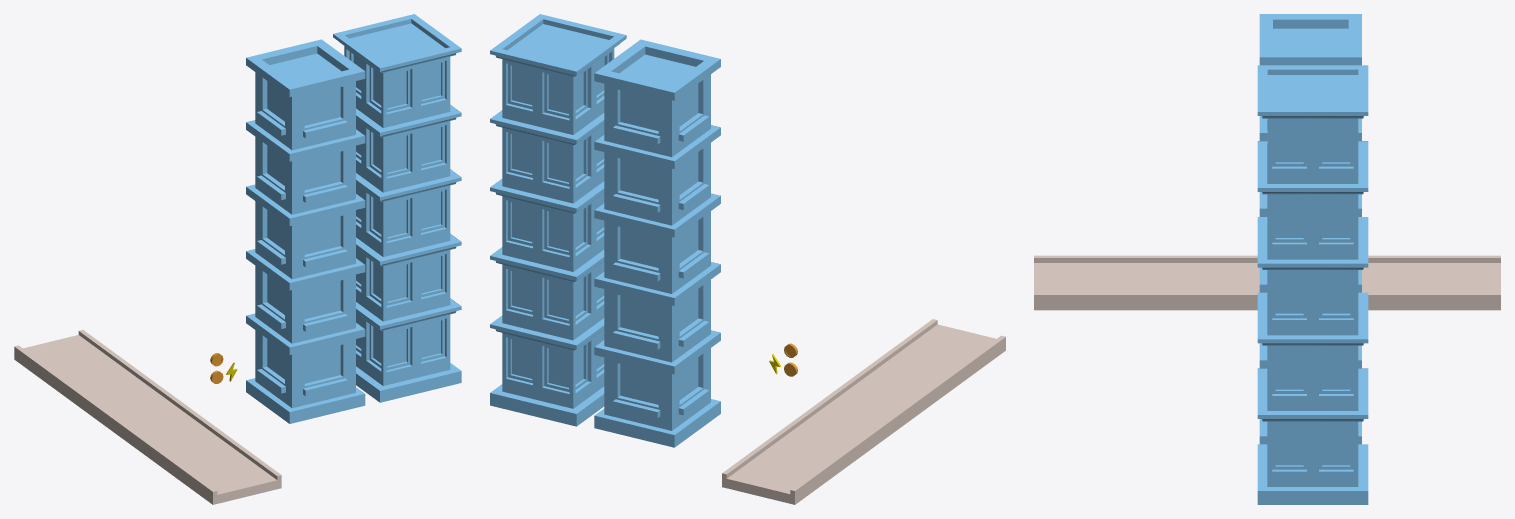
The model's file is ENV1.fbx.
3 views of the same model, side by side, from view 1: azimuth 30°, elevation 25°; view 2: azimuth 150°, elevation 25°; view 3: azimuth 270°, elevation 25° (orthographic). The views are drawn at different scales.
Parts seen in each view (by area): view 1: Plane.004, Plane.005, Plane; view 2: Plane.004, Plane.005, Plane; view 3: Plane.005, Plane, Plane.004.
Boxes of the visible parts, x1,y1,x2,y2 form: Plane.004: [246, 39, 365, 423]; Plane.005: [333, 14, 461, 402]; Plane: [14, 330, 281, 504]; Plane.004: [594, 39, 720, 447]; Plane.005: [490, 14, 626, 426]; Plane: [722, 319, 1005, 504]; Plane.005: [1257, 65, 1368, 504]; Plane: [1034, 255, 1500, 310]; Plane.004: [1259, 14, 1361, 444].
Bounding box in the file's own units: 1998 × 1857 × 2000.
